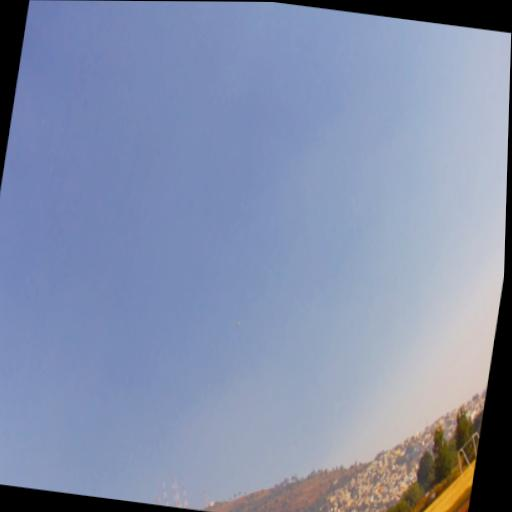drones: (235, 320, 242, 329)
